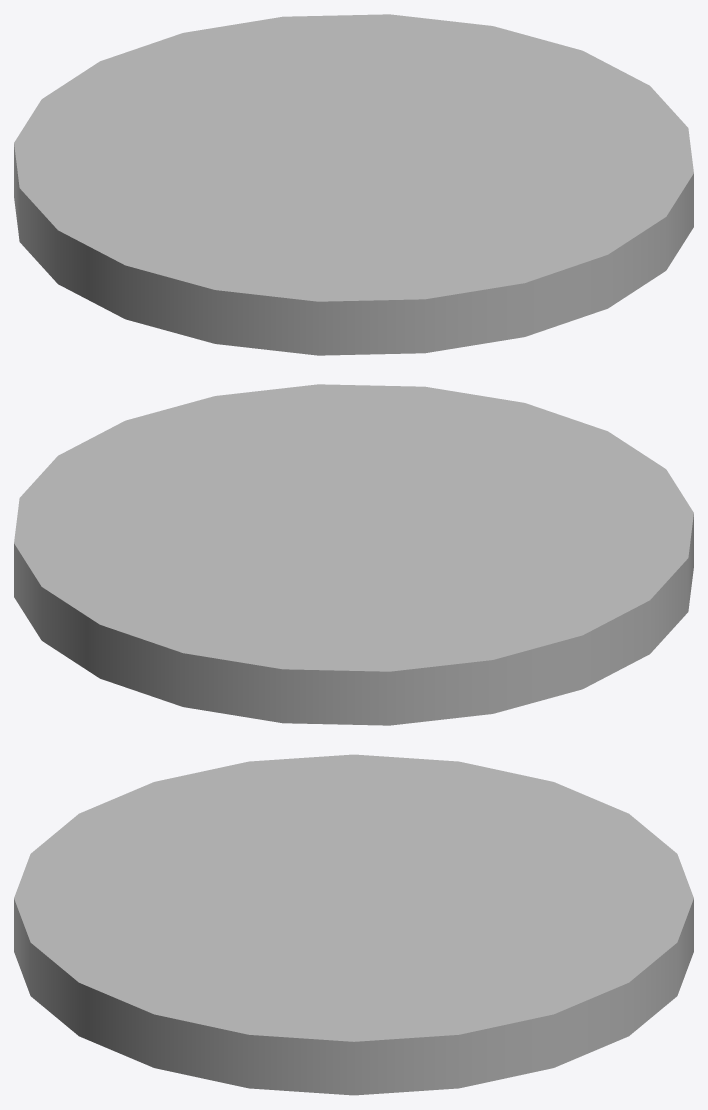
Rendered from Striker.glb.
3 views of the same model, one above another, from view 1: azimuth 30°, elevation 25°; view 2: azimuth 150°, elevation 25°; view 3: azimuth 270°, elevation 25° (orthographic).
Visible parts, largest first — view 1: Cylinder.003_5; view 2: Cylinder.003_5; view 3: Cylinder.003_5.
Boxes of the visible parts, x1,y1,x2,y2 form: Cylinder.003_5: (14,14,693,355); Cylinder.003_5: (14,384,693,725); Cylinder.003_5: (14,754,693,1095).
Size of the model in its own units: 0.2011 by 0.0175 by 0.2011.
1 material, 1 textured.
